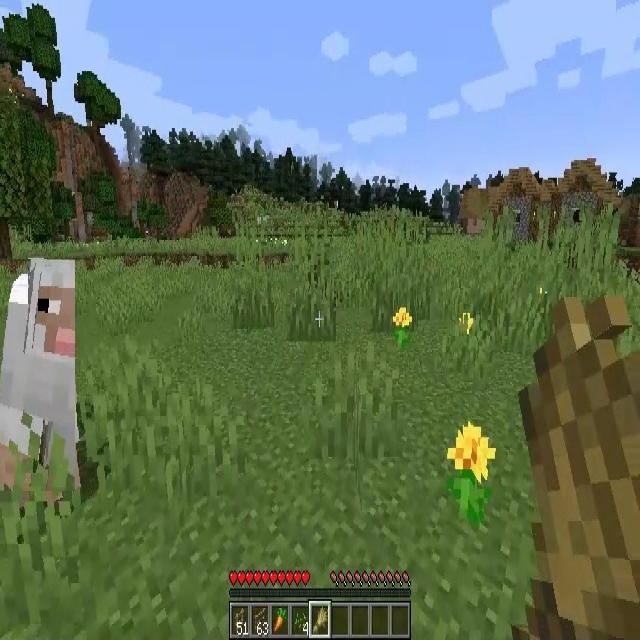flower: (447, 420, 496, 521), (393, 306, 411, 348), (457, 311, 473, 338)
sheep: (0, 259, 75, 491)
